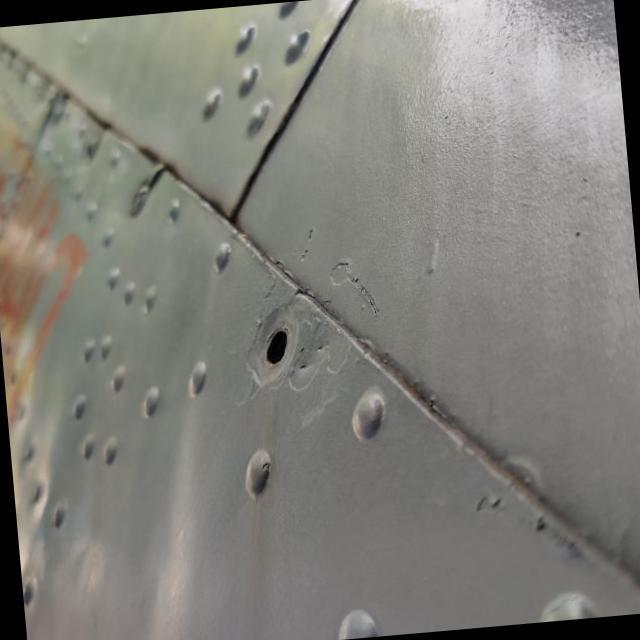Missing Fastener: (254, 313, 292, 379)
